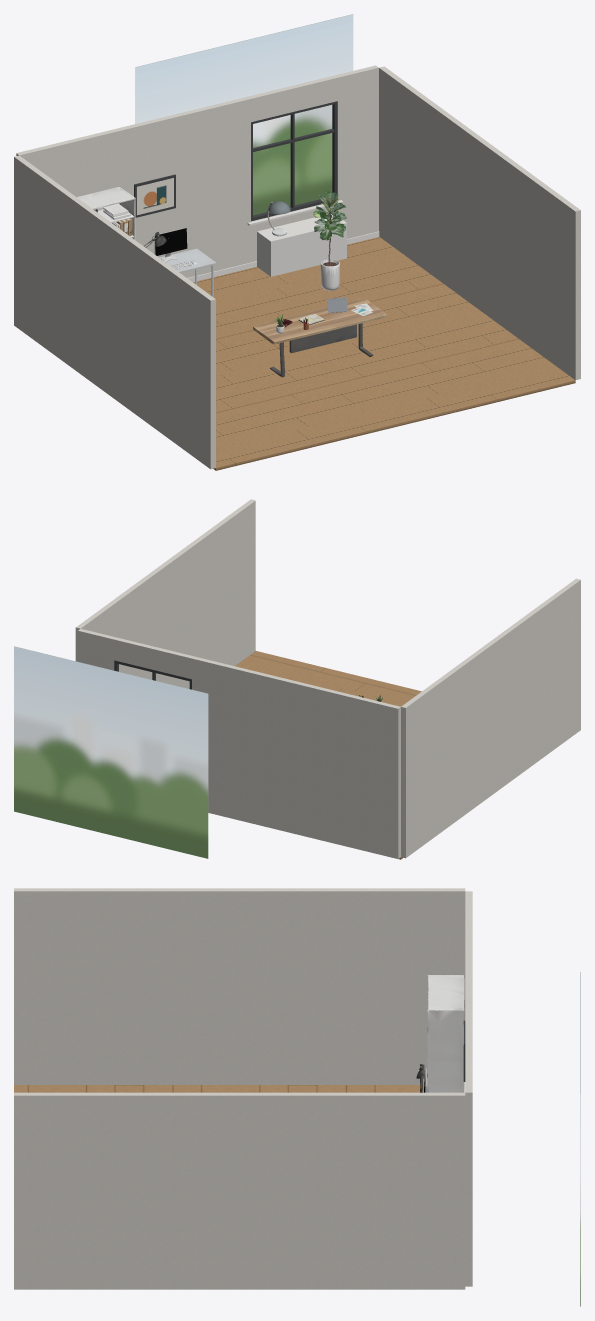
Rendered from office.glb.
The picture shows the model from 3 angles, top to bottom: view 1: azimuth 30°, elevation 25°; view 2: azimuth 150°, elevation 25°; view 3: azimuth 270°, elevation 25°; orthographic projection. The views are drawn at different scales.
Parts seen in each view (by area): view 1: floor, wall left, wall right, wall back L, outside, wall back R, sideboard, desk, wall back high, fig, shelf, print (+4 smaller); view 2: outside, wall back L, wall left, wall right, floor, wall back high, wall back R; view 3: wall right, wall left, shelf, floor, wall back R, wall back L.
Part boxes in pixels (x1,y1,x2,y2): floor: [193, 237, 575, 470]; wall left: [14, 155, 215, 469]; wall right: [379, 66, 580, 380]; wall back L: [16, 96, 250, 277]; outside: [135, 14, 353, 215]; wall back R: [335, 65, 378, 238]; sideboard: [257, 214, 346, 276]; desk: [253, 298, 387, 377]; wall back high: [248, 75, 337, 122]; fig: [313, 191, 346, 290]; shelf: [77, 186, 135, 239]; print: [136, 178, 173, 215]; outside: [14, 646, 208, 858]; wall back L: [192, 656, 400, 858]; wall left: [401, 578, 580, 858]; wall right: [75, 499, 255, 688]; floor: [235, 651, 421, 859]; wall back high: [114, 637, 194, 679]; wall back R: [78, 628, 116, 670]; wall right: [14, 1092, 465, 1289]; wall left: [14, 888, 465, 1084]; shelf: [427, 974, 464, 1092]; floor: [14, 1085, 424, 1092]; wall back R: [465, 1070, 472, 1286]; wall back L: [465, 891, 472, 1020].
Size of the model in its own units: 7.15 by 3.25 by 7.85.
Materials: 20 (17 with a texture image).
